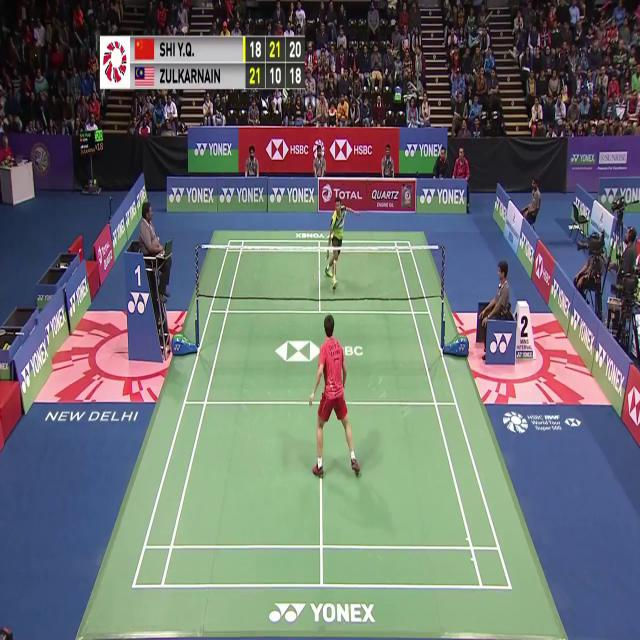Shuttlecock: (329, 232, 336, 243)
